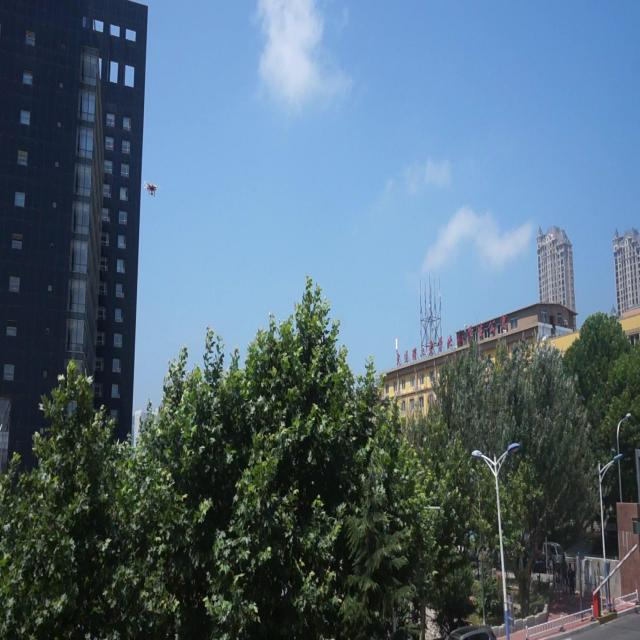UAV: (143, 181, 163, 198)
